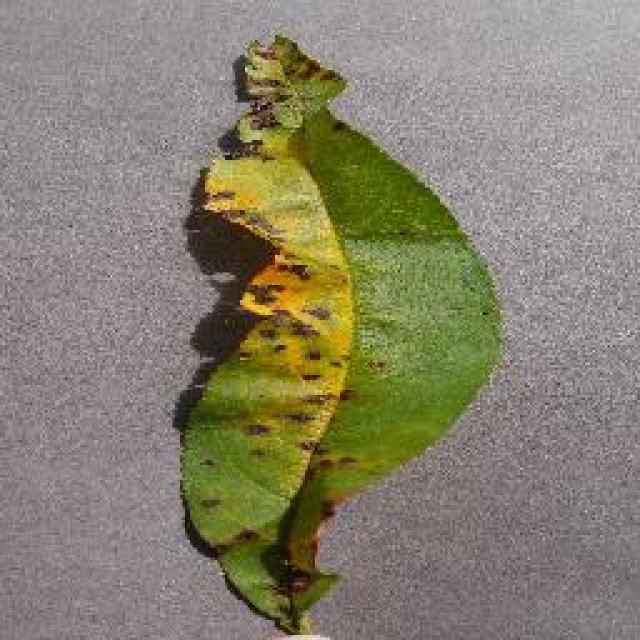Peach_Bacterial_Spot: (242, 10, 446, 640)
